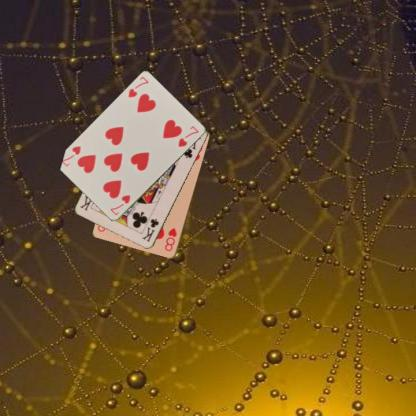7h: (107, 192, 132, 217), (125, 74, 150, 99)
8h: (162, 225, 178, 252)
Kc: (139, 216, 160, 243)
